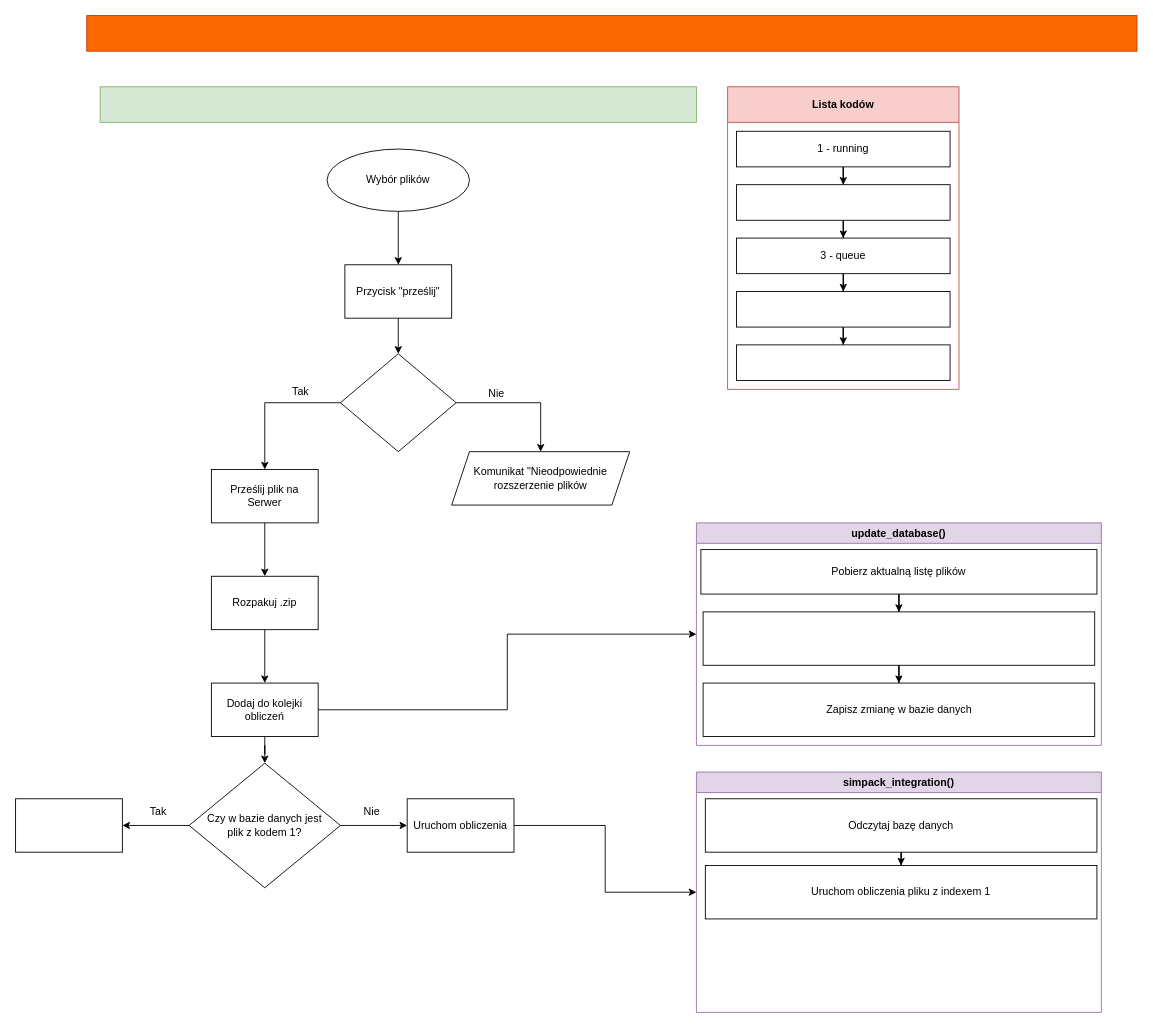
Some shapes in this 1153 by 1028 pixel diagram are drawn without their labels. Here are the shapes that lost their labels. From the top down, the centre of each, then its label:
(x=611, y=33): Aplikacja WWW
(x=397, y=104): Przesyłanie plików .zip
(x=843, y=202): 2 - next
(x=843, y=309): 4 - restart
(x=843, y=362): 5 - measurement
(x=398, y=402): Sprawdź czy .zip
(x=898, y=638): Dodaj ścieżkę nowego pliku .spck do listy *domyślnie z kodem 3 - "queue..."
(x=68, y=825): Czekaj na zakończenie trwających obliczeń
